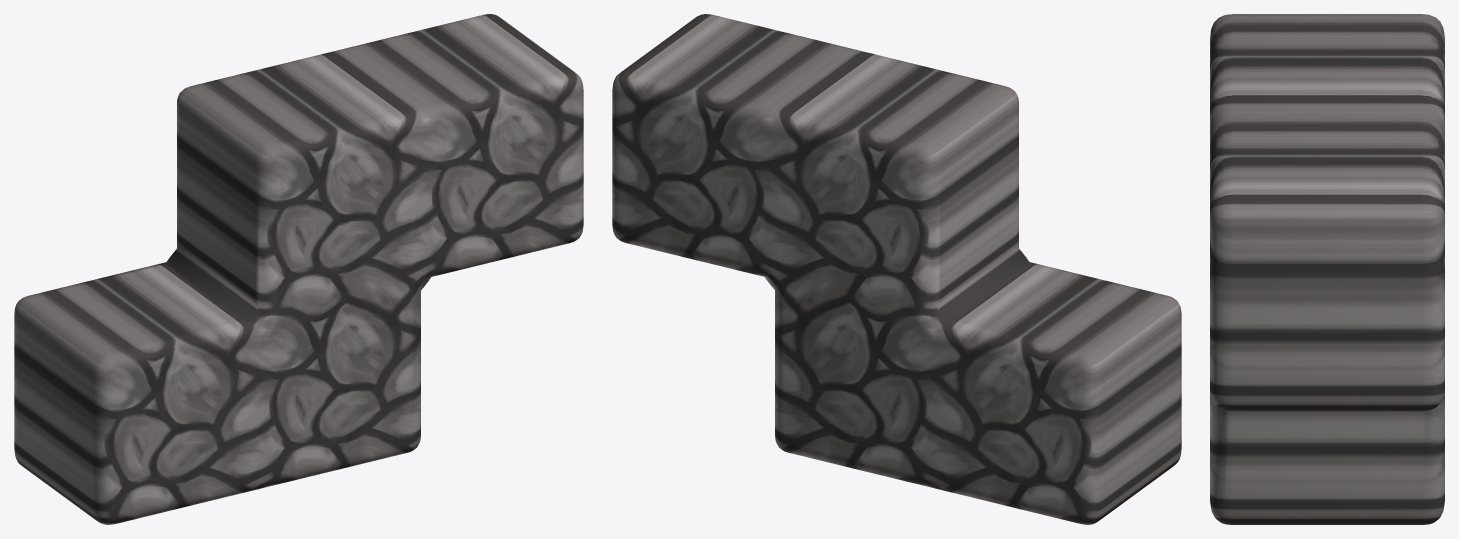
Rendered from shift_block.FBX.
3 views of the same model, side by side, from view 1: azimuth 30°, elevation 25°; view 2: azimuth 150°, elevation 25°; view 3: azimuth 270°, elevation 25° (orthographic). The views are drawn at different scales.
Visible parts, largest first — view 1: Box001; view 2: Box001; view 3: Box001.
Boxes of the visible parts, box(x1,y1,x2,y2) form: Box001: box(14, 14, 583, 524); Box001: box(612, 14, 1181, 524); Box001: box(1210, 14, 1444, 524).
Bounding box in the file's own units: 3 × 2 × 1.
